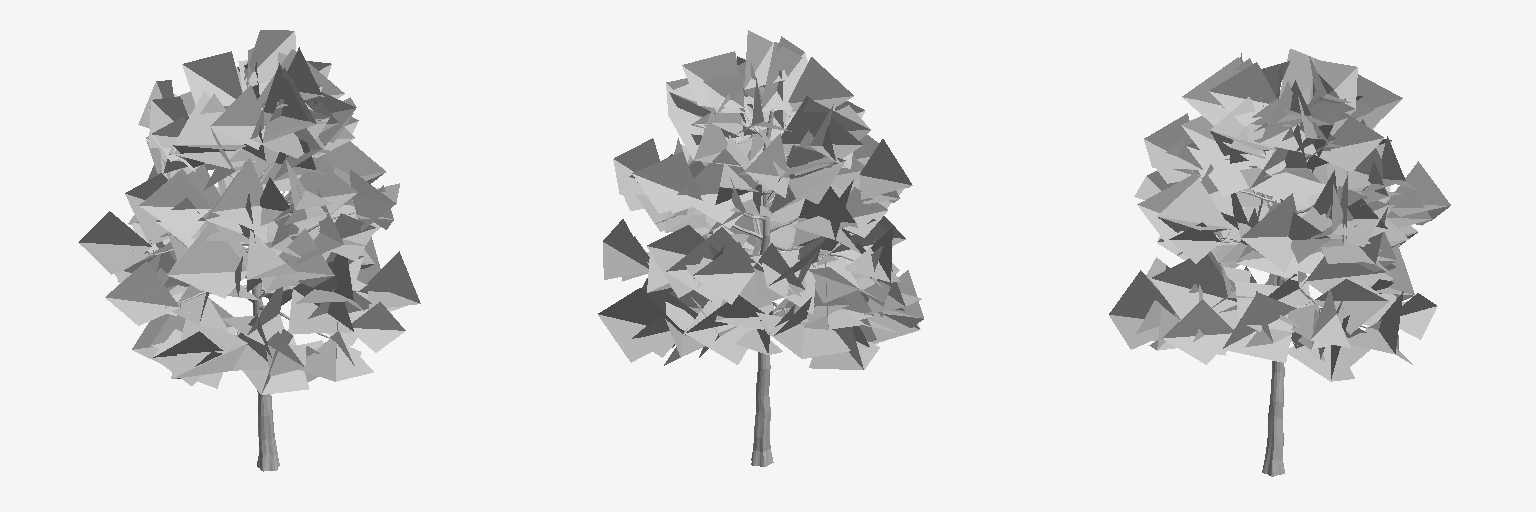
The model's file is beech04.obj.
3 views of the same model, side by side, from view 1: azimuth 30°, elevation 25°; view 2: azimuth 150°, elevation 25°; view 3: azimuth 270°, elevation 25° (orthographic).
Visible parts, largest first — view 1: tree; view 2: tree; view 3: tree.
Boxes of the visible parts, <box> form: tree: <box>78,30,420,471</box>; tree: <box>598,30,923,466</box>; tree: <box>1109,49,1450,476</box>.
Bounding box in the file's own units: 195 × 261 × 192.